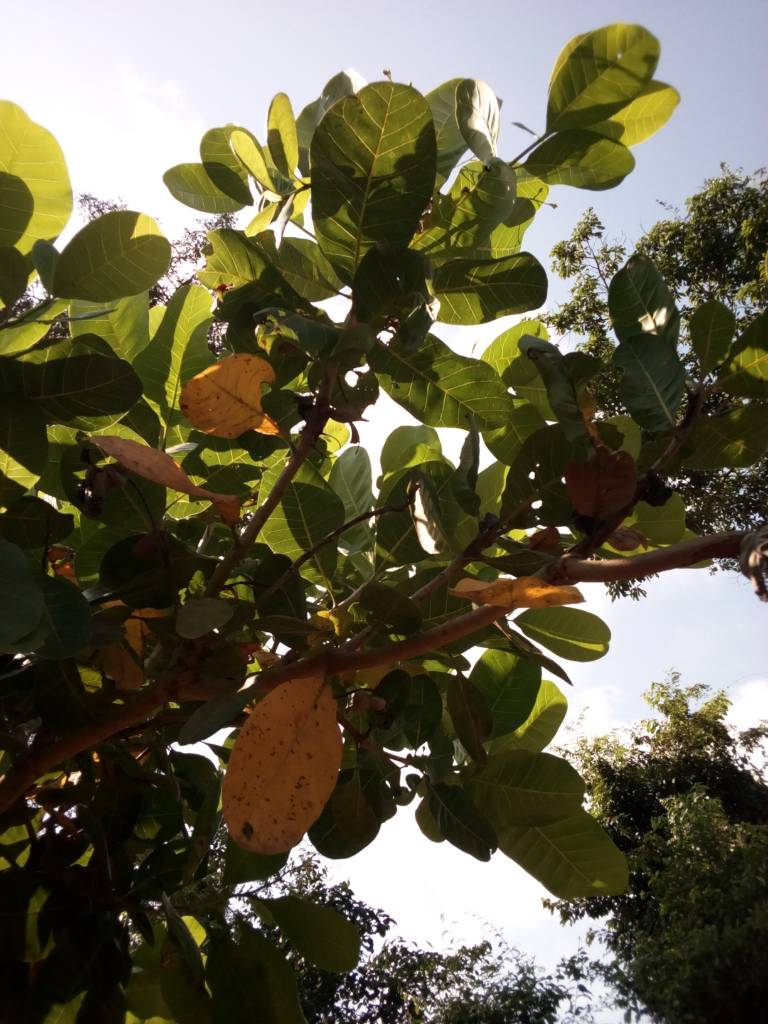Anthracnose: (219, 667, 344, 852), (177, 355, 275, 439), (550, 441, 640, 524)
